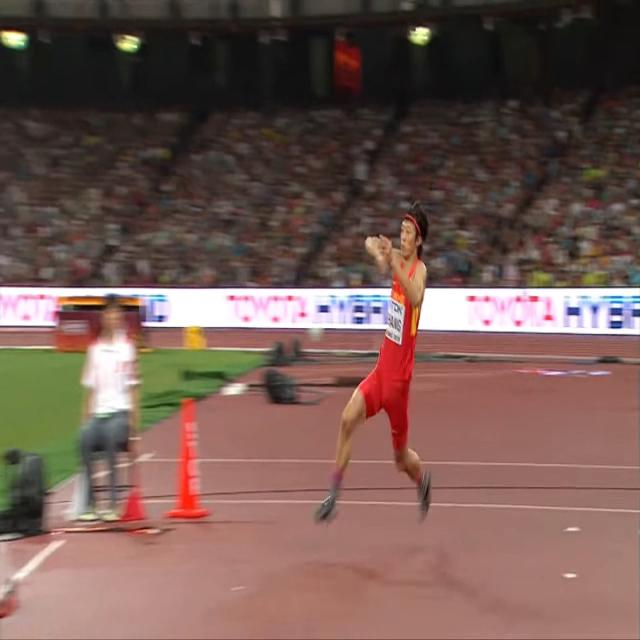run: (312, 200, 433, 527)
